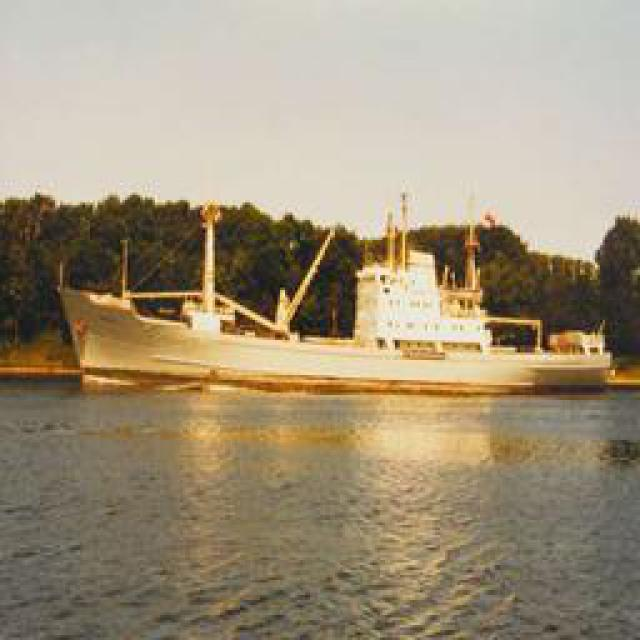Ship: (45, 231, 615, 396)
